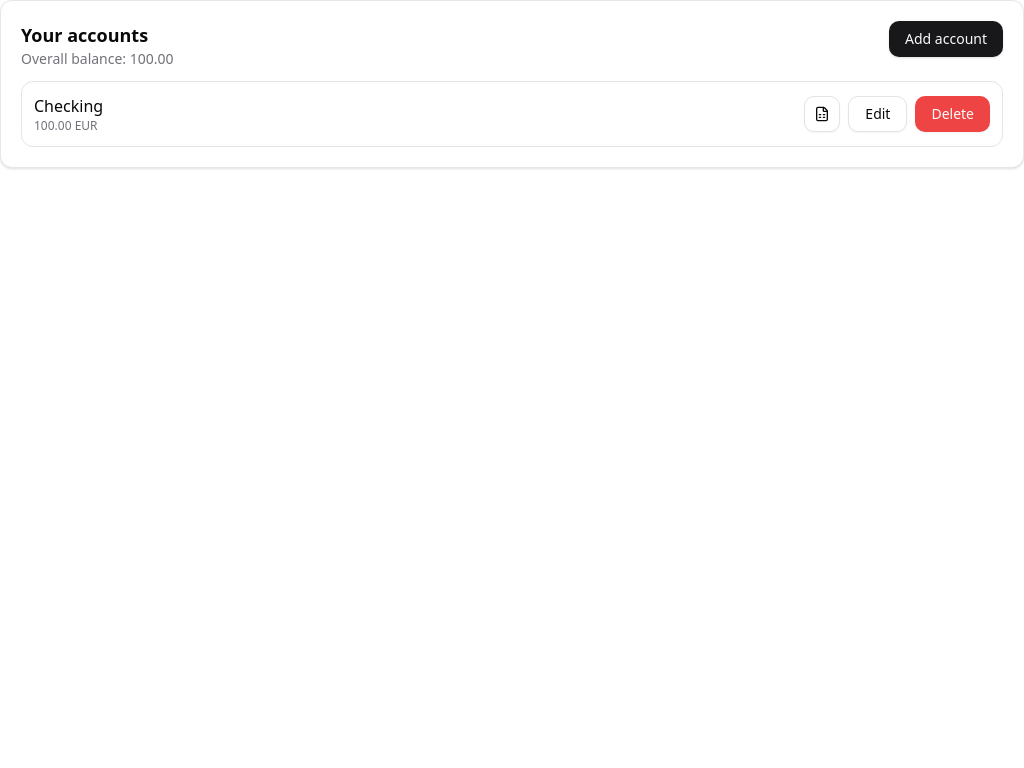
Test: AccountsPage › saves import mapping and closes the modal
Click the button named "Import settings for Checking".
click(822, 114)  # box x1=804 y1=96 x2=840 y2=132
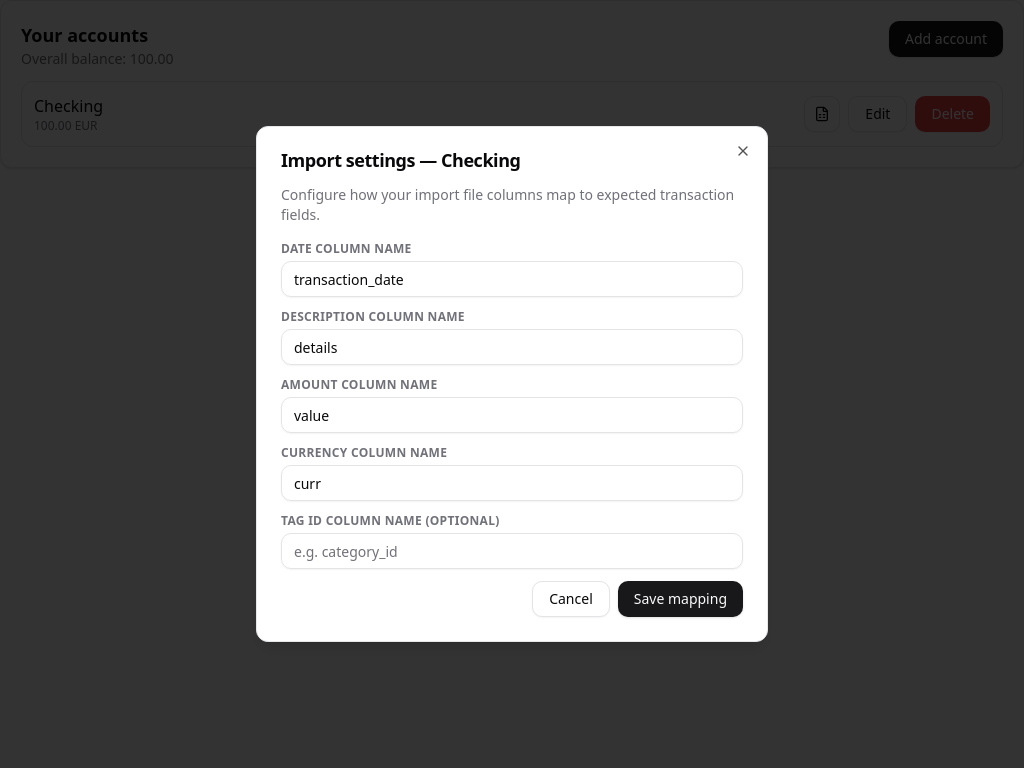
Expected: the field showing "transaction_date" below "Date column name" is shown
Replace the text in the field showing "transaction_date" below "Date column name" with "posted_date" at coordinates (512, 279), box x1=281 y1=261 x2=743 y2=297
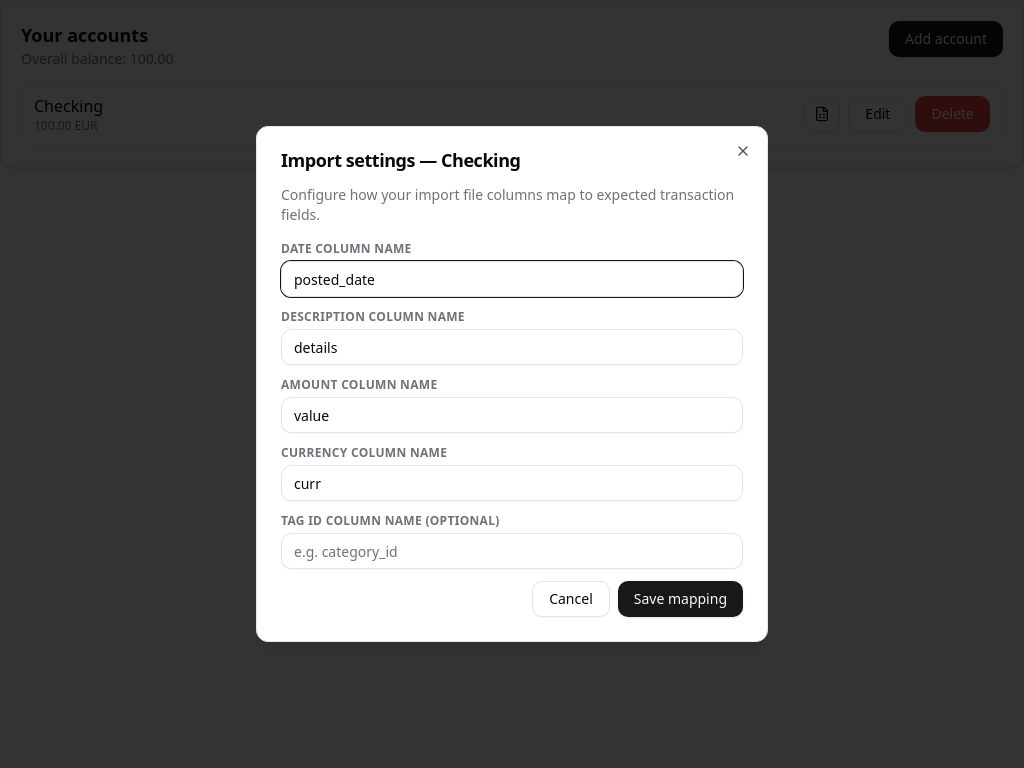
Click the button "Save mapping".
click(680, 599)  # box x1=618 y1=581 x2=743 y2=617
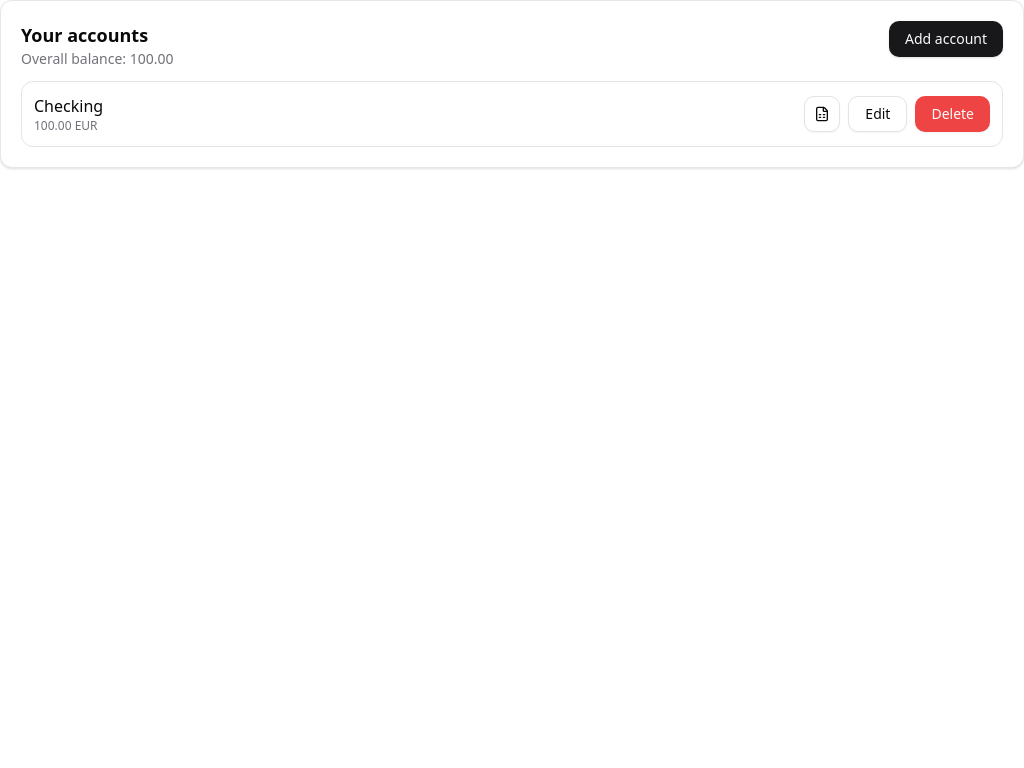
Expected: the dialog is gone
